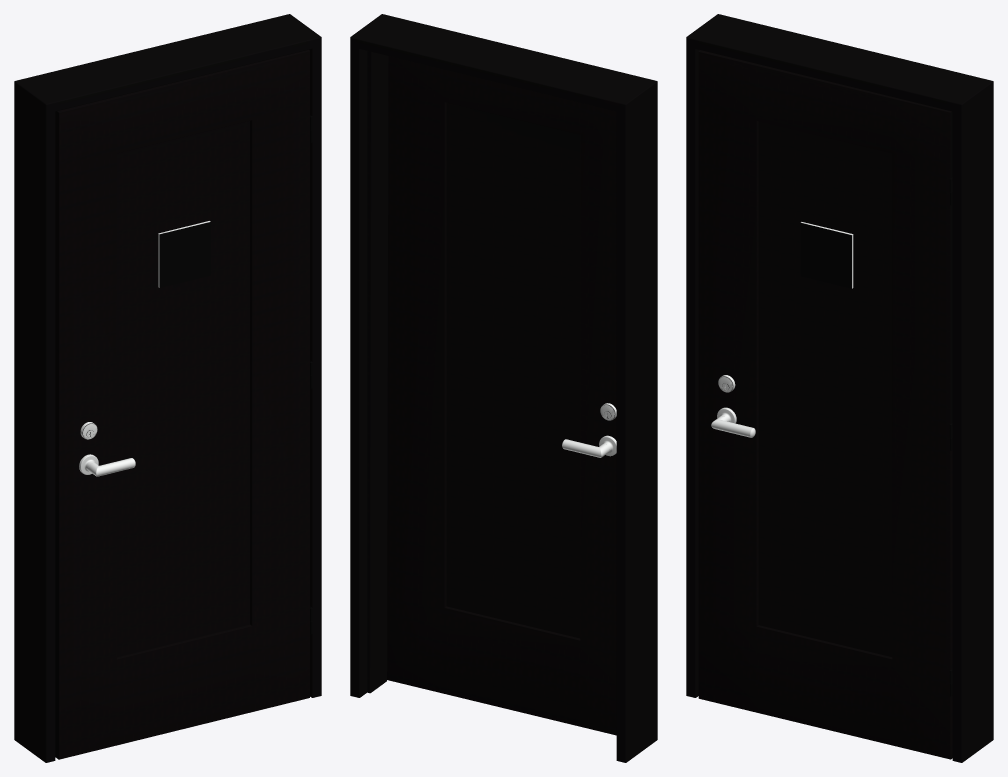
File: door.fbx
The picture shows the model from 3 angles, left to right: view 1: azimuth 30°, elevation 25°; view 2: azimuth 150°, elevation 25°; view 3: azimuth 330°, elevation 25°; orthographic projection.
Parts seen in each view (by area): view 1: Door_Ladies.016, Doorframe_Ladies; view 2: Door_Ladies.016, Doorframe_Ladies; view 3: Door_Ladies.016, Doorframe_Ladies.
Part boxes in pixels (left/top/right/bottom): Door_Ladies.016: left=55, top=50, right=312, bottom=759; Doorframe_Ladies: left=14, top=14, right=321, bottom=762; Door_Ladies.016: left=387, top=56, right=616, bottom=735; Doorframe_Ladies: left=350, top=14, right=657, bottom=762; Door_Ladies.016: left=698, top=50, right=952, bottom=759; Doorframe_Ladies: left=686, top=14, right=993, bottom=762.
Size of the model in its own units: 89.48 by 204 by 25.12.
